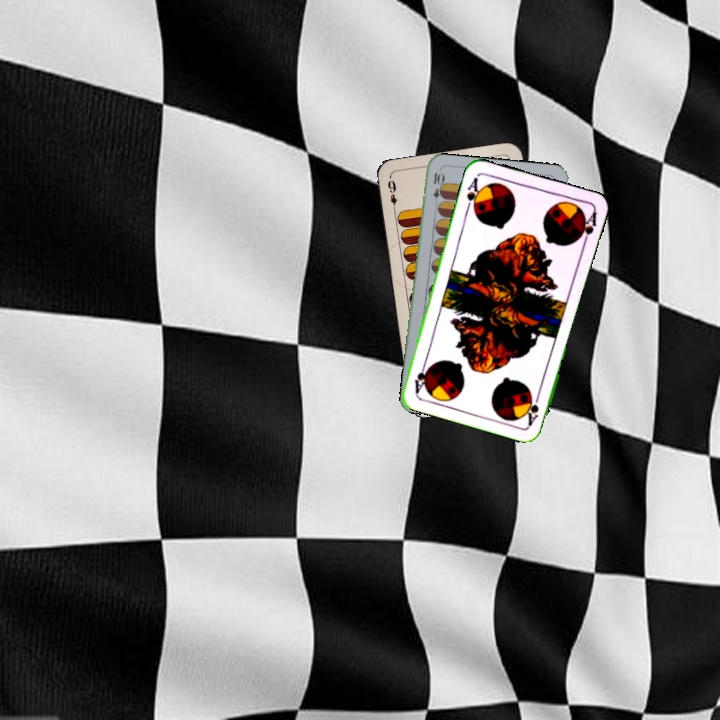E10: (429, 169, 444, 209)
E9: (384, 174, 400, 215)
SA: (462, 173, 484, 214), (522, 388, 543, 428)
